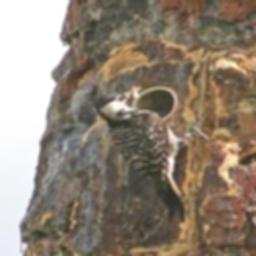Woodpecker: (92, 87, 208, 221)
